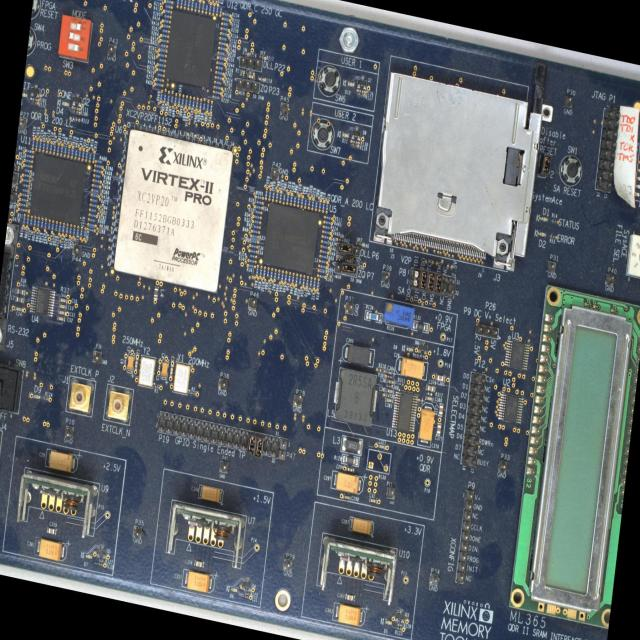Button: (315, 62, 343, 100), (556, 152, 584, 189), (309, 115, 336, 153), (27, 25, 38, 59), (30, 0, 42, 23)
Capacitor Jumper: (194, 559, 204, 568), (345, 593, 355, 602), (435, 422, 441, 436), (435, 374, 445, 382), (425, 384, 435, 392), (438, 402, 443, 417), (46, 527, 56, 534), (346, 466, 354, 474), (56, 315, 65, 322), (342, 494, 351, 501), (424, 395, 434, 401), (14, 305, 22, 312), (57, 310, 66, 316), (384, 397, 393, 403), (377, 444, 386, 450), (368, 498, 377, 504), (246, 74, 255, 80), (344, 258, 352, 264), (59, 297, 67, 303), (169, 364, 173, 376), (134, 358, 138, 370), (388, 379, 395, 385), (58, 304, 66, 309), (386, 389, 394, 394), (158, 363, 160, 371), (387, 371, 392, 374), (124, 358, 126, 365)
Clock: (172, 361, 191, 395), (138, 354, 156, 389)
Connector: (366, 53, 544, 277), (157, 411, 249, 452), (460, 371, 486, 468), (0, 222, 19, 352), (594, 107, 619, 193), (454, 489, 474, 584), (102, 382, 134, 427), (65, 375, 96, 418), (262, 434, 287, 461), (366, 450, 391, 474), (632, 139, 640, 206), (239, 55, 263, 73), (440, 274, 456, 299), (474, 323, 499, 339), (236, 77, 260, 93), (604, 271, 616, 286), (132, 525, 144, 540), (269, 167, 280, 182), (345, 300, 355, 316), (293, 392, 303, 408), (386, 484, 396, 500), (64, 425, 74, 441), (247, 297, 258, 311), (429, 572, 440, 586), (72, 243, 82, 258), (497, 458, 507, 473), (219, 459, 229, 474), (106, 43, 117, 56), (380, 270, 390, 284), (92, 350, 102, 364), (563, 95, 573, 109), (279, 102, 289, 116), (18, 118, 28, 132), (282, 558, 293, 570), (545, 260, 555, 273), (218, 378, 228, 391), (352, 245, 361, 258), (334, 262, 342, 274), (12, 171, 19, 184), (10, 191, 17, 204)
Electrolytic Capacitor: (44, 448, 80, 474), (416, 401, 436, 447), (330, 469, 364, 496), (34, 536, 68, 563), (332, 601, 366, 628), (181, 568, 216, 594), (341, 342, 375, 368), (394, 356, 428, 382), (348, 515, 374, 536), (198, 484, 224, 504), (160, 358, 169, 380), (126, 352, 135, 374)
IC: (112, 128, 234, 294), (165, 9, 217, 88), (29, 153, 86, 225), (262, 203, 319, 274), (391, 388, 418, 434), (28, 284, 55, 318), (498, 392, 524, 425), (504, 339, 530, 371)
Inductor: (332, 367, 379, 427), (14, 295, 25, 304), (15, 288, 26, 296), (152, 285, 158, 299)
Jumper: (537, 152, 552, 179), (408, 267, 421, 291), (340, 261, 358, 278), (254, 432, 264, 458), (337, 240, 353, 256), (246, 431, 256, 456), (426, 270, 436, 294), (418, 268, 428, 292), (433, 272, 443, 296)
Led: (346, 80, 355, 88), (33, 394, 41, 401), (61, 100, 69, 107), (405, 346, 414, 352), (538, 231, 547, 237), (384, 620, 392, 626), (230, 586, 238, 592), (341, 132, 349, 138), (540, 216, 548, 222), (22, 92, 28, 98), (85, 554, 92, 559)
Pads: (71, 116, 78, 122), (355, 241, 361, 246), (427, 392, 432, 397), (335, 258, 341, 262)
Resistor: (340, 434, 362, 456), (341, 453, 360, 468), (363, 310, 383, 324), (412, 320, 429, 334), (378, 368, 386, 373), (81, 150, 85, 159), (550, 218, 556, 224), (220, 36, 227, 41), (264, 190, 268, 198), (278, 192, 282, 200), (77, 150, 81, 158), (54, 223, 58, 231), (269, 270, 273, 278), (287, 274, 291, 282), (191, 100, 195, 108), (198, 101, 202, 109), (209, 104, 213, 112), (249, 253, 255, 258), (220, 41, 226, 46), (219, 51, 225, 56), (88, 153, 92, 160), (95, 164, 102, 168), (68, 227, 72, 234), (262, 269, 266, 276), (183, 0, 187, 7), (186, 0, 190, 7), (219, 6, 222, 15), (212, 5, 215, 14), (222, 26, 227, 31), (220, 46, 225, 51), (268, 190, 271, 198), (272, 192, 275, 200), (318, 201, 321, 209), (322, 202, 325, 210), (56, 145, 59, 153), (53, 144, 56, 152), (67, 147, 70, 155), (74, 149, 77, 157), (315, 201, 318, 209), (85, 151, 88, 159), (92, 153, 95, 161), (256, 196, 262, 200), (26, 149, 32, 153), (325, 216, 331, 220), (255, 205, 261, 209), (25, 158, 31, 162), (254, 210, 260, 214), (24, 168, 30, 172), (93, 184, 99, 188), (323, 235, 329, 239), (322, 240, 328, 244), (252, 230, 258, 234), (22, 183, 28, 187), (91, 198, 97, 202), (251, 234, 257, 238), (250, 244, 256, 248), (250, 249, 256, 253), (89, 218, 95, 222), (19, 208, 25, 212), (248, 264, 254, 268), (76, 228, 79, 236), (58, 224, 61, 232), (61, 225, 64, 233), (83, 230, 86, 238), (277, 272, 280, 280), (40, 220, 43, 228), (302, 277, 305, 285), (266, 270, 269, 278), (284, 273, 287, 281), (298, 276, 301, 284), (309, 279, 312, 287), (280, 273, 283, 281), (316, 281, 319, 289), (384, 393, 390, 397), (190, 0, 193, 8), (198, 2, 201, 10), (205, 4, 208, 12), (208, 4, 211, 12), (98, 559, 104, 563), (194, 1, 197, 9), (243, 595, 249, 599), (223, 12, 229, 16), (165, 0, 171, 4), (163, 19, 169, 23), (162, 29, 168, 33), (258, 55, 264, 59), (218, 56, 224, 60), (358, 89, 364, 93), (159, 53, 165, 57), (158, 58, 164, 62), (216, 76, 222, 80), (157, 68, 163, 72), (156, 78, 162, 82), (214, 90, 220, 94), (163, 93, 166, 101), (177, 96, 180, 104), (185, 98, 188, 106), (170, 95, 173, 103), (181, 97, 184, 105), (167, 94, 170, 102), (188, 99, 191, 107), (195, 100, 198, 108), (159, 92, 162, 100), (202, 102, 205, 110), (206, 103, 209, 111), (351, 143, 357, 147), (293, 196, 296, 203), (300, 198, 303, 205), (304, 198, 307, 205), (311, 200, 314, 207), (35, 140, 38, 147), (42, 142, 45, 149), (49, 144, 52, 151), (59, 146, 62, 153), (29, 218, 32, 225), (65, 226, 68, 233), (47, 222, 50, 229), (51, 223, 54, 230), (305, 278, 308, 285), (259, 268, 262, 275), (202, 4, 205, 11), (256, 200, 261, 204), (26, 154, 31, 158), (95, 169, 100, 173), (325, 220, 330, 224), (324, 226, 329, 230), (25, 164, 30, 168), (94, 179, 99, 183), (324, 230, 329, 234), (14, 168, 19, 172), (338, 238, 343, 242), (93, 189, 98, 193), (253, 225, 258, 229), (23, 178, 28, 182), (92, 194, 97, 198), (322, 245, 327, 249), (321, 255, 326, 259), (21, 193, 26, 197), (21, 198, 26, 202), (320, 264, 325, 268), (20, 202, 25, 206), (89, 223, 94, 227), (20, 284, 25, 288), (61, 294, 66, 298), (387, 374, 392, 378), (386, 384, 391, 388), (190, 391, 195, 395), (43, 396, 48, 400), (397, 624, 402, 628), (244, 591, 249, 595), (223, 17, 228, 21), (165, 5, 170, 9), (164, 14, 169, 18), (222, 32, 227, 36), (163, 24, 168, 28), (162, 34, 167, 38), (242, 51, 247, 55), (161, 38, 166, 42), (218, 61, 223, 65), (218, 66, 223, 70), (257, 77, 262, 81), (158, 63, 163, 67), (216, 80, 221, 84), (215, 86, 220, 90), (157, 72, 162, 76), (156, 82, 161, 86), (214, 95, 219, 99), (352, 140, 357, 144), (549, 234, 554, 238), (96, 160, 102, 163), (94, 175, 100, 178), (253, 220, 259, 223), (23, 174, 29, 177), (21, 189, 27, 192), (91, 204, 97, 207), (320, 260, 326, 263), (90, 214, 96, 217), (319, 270, 325, 273), (419, 355, 425, 358), (179, 0, 182, 6), (396, 627, 402, 630), (97, 563, 103, 566), (164, 10, 170, 13), (160, 44, 166, 47), (276, 192, 278, 200), (290, 195, 292, 203), (308, 199, 310, 207), (32, 139, 34, 147), (46, 143, 48, 151), (71, 148, 73, 156), (26, 217, 28, 225), (80, 228, 82, 236), (274, 271, 276, 279), (44, 221, 46, 229), (256, 267, 258, 275), (291, 275, 293, 283), (216, 6, 218, 14), (254, 215, 259, 218), (354, 262, 359, 265), (251, 240, 256, 243), (12, 188, 17, 191), (91, 209, 96, 212), (249, 259, 254, 262), (319, 275, 324, 278), (88, 228, 93, 231), (154, 385, 159, 388), (176, 0, 179, 5), (223, 22, 228, 25), (160, 49, 165, 52), (358, 93, 363, 96), (239, 73, 244, 76), (217, 71, 222, 74), (32, 98, 37, 101), (73, 107, 78, 110), (32, 101, 37, 104), (73, 110, 78, 113), (286, 194, 288, 201), (297, 197, 299, 204), (283, 194, 285, 201), (326, 203, 328, 210), (64, 147, 66, 154), (39, 142, 41, 149), (33, 219, 35, 226), (23, 217, 25, 224), (73, 228, 75, 235), (295, 276, 297, 283), (37, 220, 39, 227), (313, 280, 315, 287), (174, 96, 176, 103), (322, 250, 326, 253)
Switch: (57, 13, 93, 63), (0, 362, 25, 416)
Test Point: (24, 62, 37, 81), (436, 358, 445, 368), (423, 478, 431, 488), (253, 542, 260, 553), (439, 332, 446, 342), (402, 574, 409, 584), (104, 509, 110, 519)
Transistor: (356, 74, 367, 90), (29, 84, 41, 98), (95, 544, 106, 559), (241, 577, 252, 592), (71, 92, 82, 107), (351, 125, 361, 141), (417, 340, 428, 354), (395, 608, 405, 623)
Unknown Unlabeled: (15, 466, 100, 540), (316, 532, 398, 606), (165, 499, 247, 569)
